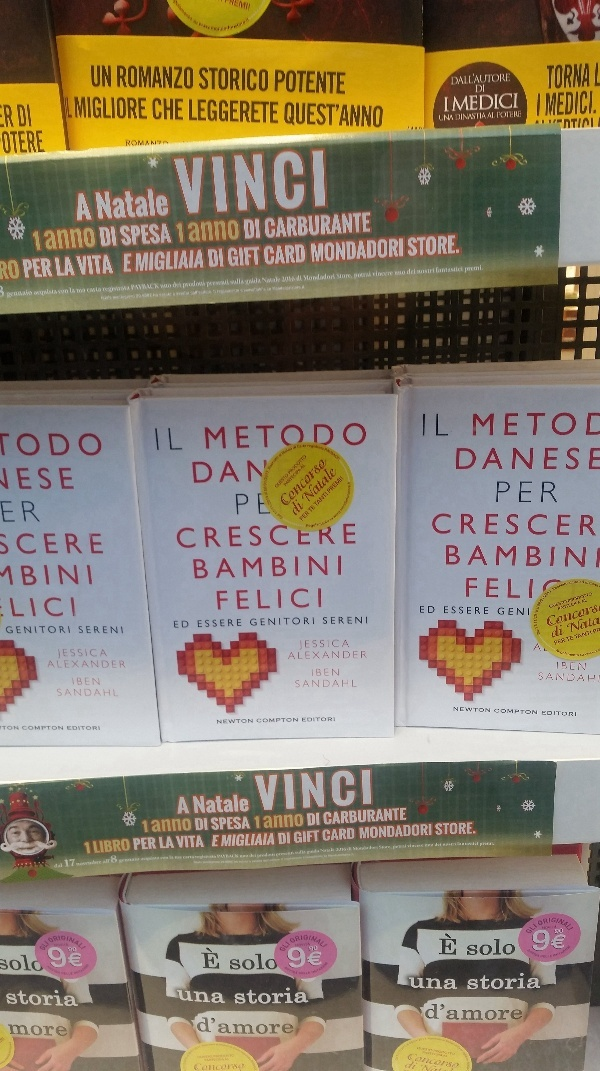text: (177, 149, 192, 214), (193, 149, 208, 214), (209, 149, 224, 214), (225, 149, 240, 214), (241, 149, 256, 214), (257, 149, 272, 214), (273, 149, 288, 214), (289, 149, 304, 214), (305, 149, 320, 214), (529, 578, 544, 635), (289, 459, 304, 510), (305, 459, 320, 510), (401, 1021, 416, 1062), (257, 771, 272, 811), (273, 771, 288, 811), (289, 771, 304, 811), (305, 771, 320, 811), (321, 771, 336, 811), (337, 771, 352, 811), (353, 771, 368, 811), (273, 471, 283, 531), (321, 467, 337, 503), (305, 467, 320, 503), (289, 455, 304, 490), (97, 188, 112, 221), (113, 188, 128, 221), (129, 188, 144, 221), (145, 188, 160, 221), (274, 455, 288, 490), (279, 459, 288, 510), (545, 578, 553, 635), (289, 101, 304, 129), (305, 101, 320, 129), (321, 101, 336, 129), (337, 101, 352, 129), (353, 101, 368, 129), (561, 412, 577, 438), (417, 1021, 427, 1062), (33, 929, 48, 956), (49, 929, 64, 956), (65, 929, 80, 956), (289, 946, 304, 973), (209, 424, 224, 451), (225, 424, 240, 451), (241, 424, 256, 451), (257, 424, 272, 451), (273, 424, 288, 451), (289, 424, 304, 451), (305, 424, 320, 451), (321, 424, 336, 451), (337, 424, 352, 451), (353, 424, 368, 451), (273, 212, 288, 239), (289, 212, 304, 239), (305, 212, 320, 239), (321, 212, 336, 239), (337, 212, 352, 239), (353, 212, 368, 239), (289, 69, 304, 96), (305, 69, 320, 96), (321, 69, 336, 96), (209, 66, 224, 93), (225, 66, 240, 93), (241, 66, 256, 93), (273, 526, 289, 551), (369, 101, 383, 129), (449, 543, 464, 569), (465, 543, 480, 569), (481, 543, 496, 569), (497, 543, 512, 569), (513, 543, 528, 569), (529, 543, 544, 569), (545, 543, 560, 569), (561, 543, 576, 569), (481, 412, 496, 438), (497, 412, 512, 438), (513, 412, 528, 438), (529, 412, 544, 438), (545, 412, 560, 438), (321, 238, 336, 264), (337, 238, 352, 264), (353, 238, 368, 264), (369, 238, 384, 264), (385, 238, 400, 264), (561, 63, 576, 89), (193, 98, 208, 124), (209, 98, 224, 124), (225, 98, 240, 124), (241, 98, 256, 124), (257, 98, 272, 124), (449, 513, 464, 538), (465, 513, 480, 538), (481, 513, 496, 538), (497, 513, 512, 538), (513, 513, 528, 538), (17, 433, 32, 458), (33, 433, 48, 458), (49, 433, 64, 458), (65, 433, 80, 458), (81, 433, 96, 458), (177, 526, 192, 551), (193, 526, 208, 551), (209, 526, 224, 551), (225, 526, 240, 551), (241, 526, 256, 551), (257, 526, 272, 551), (561, 91, 576, 116), (577, 91, 592, 116), (129, 66, 144, 91), (145, 66, 160, 91), (161, 66, 176, 91), (177, 66, 192, 91), (433, 413, 448, 437), (17, 467, 32, 491), (33, 467, 48, 491), (49, 467, 64, 491), (193, 556, 208, 580), (209, 556, 224, 580), (225, 556, 240, 580), (241, 556, 256, 580), (257, 556, 272, 580), (273, 556, 288, 580), (289, 556, 304, 580), (305, 556, 320, 580), (145, 249, 160, 273), (161, 249, 176, 273), (177, 249, 192, 273), (193, 219, 208, 243), (209, 219, 224, 243), (225, 219, 240, 243), (129, 224, 144, 248), (145, 224, 160, 248), (97, 64, 112, 88), (177, 1, 192, 25), (321, 459, 328, 510), (289, 246, 305, 268), (275, 69, 288, 96), (546, 91, 560, 116), (561, 605, 576, 628), (577, 605, 592, 628), (193, 461, 208, 484), (209, 461, 224, 484), (225, 461, 240, 484), (49, 228, 64, 251), (65, 228, 80, 251), (81, 228, 96, 251), (161, 98, 176, 121), (81, 97, 96, 120), (97, 97, 112, 120), (113, 97, 128, 120), (129, 97, 144, 120), (1, 131, 16, 154), (17, 131, 32, 154), (547, 63, 560, 89), (577, 63, 590, 89), (49, 948, 64, 970), (513, 481, 528, 503), (529, 481, 544, 503), (465, 448, 480, 470), (481, 448, 496, 470), (497, 448, 512, 470), (513, 448, 528, 470), (529, 448, 544, 470), (545, 448, 560, 470), (561, 448, 576, 470), (577, 448, 592, 470), (33, 565, 48, 587), (49, 565, 64, 587), (65, 565, 80, 587), (17, 533, 32, 555), (33, 533, 48, 555), (49, 533, 64, 555), (65, 533, 80, 555), (81, 533, 96, 555), (225, 588, 240, 610), (241, 588, 256, 610), (257, 588, 272, 610), (273, 588, 288, 610), (289, 588, 304, 610), (305, 588, 320, 610), (417, 235, 432, 257), (433, 235, 448, 257), (273, 246, 288, 268), (65, 97, 80, 119), (17, 105, 32, 127), (392, 1021, 400, 1062), (321, 149, 326, 214), (257, 66, 269, 93), (546, 605, 560, 628), (273, 932, 288, 953), (289, 932, 304, 953), (305, 932, 320, 953), (321, 932, 336, 953), (481, 578, 496, 599), (497, 578, 512, 599), (513, 578, 528, 599), (1, 501, 16, 522), (17, 501, 32, 522), (161, 429, 176, 450), (241, 246, 256, 267), (81, 255, 96, 276), (97, 255, 112, 276), (33, 230, 48, 251), (498, 481, 512, 503), (81, 193, 92, 221), (241, 1050, 256, 1070), (209, 1017, 224, 1037), (225, 1017, 240, 1037), (241, 1017, 256, 1037), (257, 1017, 272, 1037), (273, 1017, 288, 1037), (436, 513, 448, 538), (17, 597, 32, 617), (33, 597, 48, 617), (49, 597, 64, 617), (177, 223, 192, 243), (33, 259, 48, 279), (1, 260, 16, 280), (465, 1044, 476, 1071), (466, 578, 480, 599), (209, 946, 221, 970), (577, 591, 593, 609), (545, 481, 558, 503), (529, 917, 544, 936), (545, 917, 560, 936), (561, 917, 576, 936), (577, 614, 592, 633), (209, 248, 224, 267), (532, 929, 544, 952), (292, 499, 304, 522), (33, 131, 45, 154), (4, 105, 16, 128), (117, 66, 128, 91), (99, 226, 112, 247), (81, 929, 91, 956), (241, 953, 256, 971), (257, 953, 272, 971), (481, 939, 496, 957), (497, 939, 512, 957), (193, 795, 208, 813), (209, 795, 224, 813), (225, 795, 240, 813), (561, 591, 576, 609), (465, 94, 480, 112), (481, 94, 496, 112), (497, 94, 512, 112), (81, 565, 93, 587), (193, 249, 204, 273), (161, 224, 172, 248), (161, 188, 169, 221), (577, 543, 587, 569), (17, 991, 32, 1008), (33, 991, 48, 1008), (49, 991, 64, 1008), (241, 988, 256, 1005), (257, 988, 272, 1005), (273, 988, 288, 1005), (289, 988, 304, 1005), (433, 1004, 448, 1021), (449, 1004, 464, 1021), (465, 1004, 480, 1021), (481, 1004, 496, 1021), (497, 1004, 512, 1021), (481, 974, 496, 991), (497, 974, 512, 991), (513, 974, 528, 991), (369, 824, 384, 841), (385, 824, 400, 841), (401, 824, 416, 841), (417, 824, 432, 841), (337, 808, 352, 825), (353, 808, 368, 825), (369, 808, 384, 825), (385, 808, 400, 825), (228, 246, 240, 267), (244, 219, 256, 240), (529, 513, 539, 538), (455, 1044, 464, 1071), (337, 69, 346, 96), (21, 565, 32, 587), (449, 235, 460, 257), (417, 1053, 432, 1069), (433, 1053, 448, 1069), (289, 468, 301, 488), (65, 991, 79, 1008), (17, 955, 31, 972), (439, 930, 448, 956), (311, 238, 320, 264), (516, 917, 528, 936), (97, 839, 112, 854), (113, 839, 128, 854), (161, 818, 176, 833), (177, 818, 192, 833), (193, 1043, 201, 1071), (65, 597, 76, 617), (468, 939, 480, 957), (423, 413, 432, 437), (65, 467, 74, 491), (264, 212, 272, 239), (200, 66, 208, 93), (449, 821, 464, 835), (337, 828, 352, 842), (305, 830, 319, 845), (273, 815, 288, 829), (225, 817, 240, 831), (65, 256, 75, 277), (565, 614, 576, 633), (449, 930, 457, 956), (468, 974, 480, 991), (529, 974, 541, 991), (324, 808, 336, 825), (180, 797, 192, 814), (97, 433, 105, 458), (549, 591, 560, 609), (306, 952, 320, 966), (289, 815, 303, 829), (210, 817, 224, 831), (17, 1025, 32, 1038), (33, 1025, 48, 1038), (49, 1025, 64, 1038), (177, 991, 192, 1004), (193, 991, 208, 1004), (209, 991, 224, 1004), (417, 978, 432, 991), (433, 978, 448, 991), (177, 836, 192, 849), (225, 834, 240, 847), (241, 834, 256, 847), (257, 834, 272, 847), (209, 21, 224, 34), (225, 21, 240, 34), (129, 138, 144, 151), (145, 138, 160, 151), (136, 249, 144, 273), (120, 224, 128, 248), (55, 256, 64, 277), (5, 991, 16, 1008), (241, 492, 249, 515), (67, 954, 80, 968), (435, 821, 448, 835), (323, 828, 336, 842), (307, 813, 320, 827), (195, 818, 208, 832), (199, 1017, 208, 1037), (230, 953, 240, 971), (269, 471, 272, 531), (23, 259, 32, 279), (216, 588, 224, 610), (344, 523, 352, 545), (408, 235, 416, 257), (264, 246, 272, 268), (513, 1004, 523, 1021), (186, 1043, 192, 1071), (201, 946, 208, 970), (561, 945, 573, 959), (161, 837, 175, 849), (33, 501, 41, 522), (321, 556, 328, 580), (545, 672, 560, 683), (561, 672, 576, 683), (577, 672, 592, 683), (65, 649, 80, 660), (81, 649, 96, 660), (305, 640, 320, 651), (321, 640, 336, 651), (241, 795, 250, 813), (327, 476, 336, 494), (455, 94, 464, 112), (153, 98, 160, 121), (177, 98, 184, 121), (449, 1053, 459, 1069), (84, 841, 96, 854), (145, 838, 157, 851), (193, 836, 205, 849), (474, 412, 480, 438), (273, 98, 279, 124), (465, 821, 476, 835), (457, 448, 464, 470), (593, 448, 600, 470), (348, 481, 352, 519), (294, 830, 304, 845), (561, 601, 576, 611), (513, 606, 528, 616), (311, 962, 320, 978), (321, 962, 330, 978), (300, 467, 304, 503), (327, 447, 336, 463), (17, 290, 33, 299), (133, 838, 144, 851), (530, 949, 544, 959), (241, 817, 251, 831), (498, 606, 512, 616), (9, 597, 16, 617), (545, 929, 551, 952), (538, 94, 544, 117), (74, 97, 80, 120), (360, 824, 368, 841), (8, 955, 16, 972), (27, 929, 32, 956), (151, 818, 160, 833), (561, 662, 576, 671), (577, 631, 592, 640), (65, 688, 80, 697), (81, 688, 96, 697), (97, 688, 112, 697), (65, 659, 80, 668), (81, 659, 96, 668), (97, 659, 112, 668), (81, 625, 96, 634), (97, 625, 112, 634), (305, 679, 320, 688), (321, 679, 336, 688), (337, 679, 352, 688), (305, 651, 320, 660), (321, 651, 336, 660), (337, 651, 352, 660), (257, 617, 272, 626), (273, 617, 288, 626), (289, 617, 304, 626), (465, 265, 480, 274), (209, 278, 224, 287), (497, 110, 512, 119), (465, 112, 480, 121), (481, 112, 496, 121), (593, 614, 600, 633), (213, 835, 224, 847), (97, 533, 103, 555), (337, 640, 349, 651), (174, 149, 176, 214), (552, 935, 560, 951), (263, 815, 272, 829), (50, 659, 64, 668), (353, 651, 367, 660), (177, 429, 183, 450), (337, 476, 344, 494), (194, 18, 208, 27), (257, 1050, 263, 1070), (449, 607, 464, 615), (465, 607, 480, 615), (497, 708, 512, 716), (513, 708, 528, 716), (17, 626, 32, 634), (33, 626, 48, 634), (49, 626, 64, 634), (321, 669, 336, 677), (209, 619, 224, 627), (225, 619, 240, 627), (321, 491, 329, 506), (305, 274, 320, 282), (321, 274, 336, 282), (145, 283, 160, 291), (91, 64, 96, 88), (449, 978, 458, 991), (113, 659, 126, 668), (291, 651, 304, 660), (193, 280, 206, 289), (199, 21, 208, 34), (593, 605, 598, 628), (433, 1051, 447, 1059), (306, 520, 320, 528), (49, 965, 60, 975), (278, 833, 288, 844), (97, 649, 107, 660), (241, 1, 251, 12), (273, 953, 279, 971), (204, 424, 208, 451), (209, 1063, 224, 1070), (225, 1063, 240, 1070), (465, 706, 480, 713), (81, 678, 96, 685), (337, 617, 352, 624), (353, 617, 368, 624), (155, 429, 160, 450), (313, 491, 320, 506), (113, 286, 128, 293), (8, 1025, 16, 1038), (307, 505, 320, 513), (355, 271, 368, 279), (131, 283, 144, 291), (161, 138, 169, 151), (234, 988, 240, 1005), (273, 455, 279, 472), (289, 1017, 294, 1037), (283, 468, 288, 488), (593, 91, 597, 116), (81, 964, 90, 975), (289, 967, 298, 978), (418, 1046, 432, 1053), (434, 1049, 448, 1056), (553, 945, 560, 959), (449, 266, 463, 273), (418, 268, 432, 275), (561, 710, 577, 716), (420, 606, 432, 614), (177, 621, 189, 629), (308, 444, 320, 452), (188, 219, 192, 243), (236, 492, 240, 515), (44, 228, 48, 251), (409, 978, 416, 991), (323, 617, 336, 624), (54, 861, 64, 870), (65, 860, 75, 869), (209, 1053, 224, 1059), (257, 853, 272, 859), (145, 857, 160, 863), (81, 860, 96, 866), (545, 710, 560, 716), (113, 625, 123, 634), (273, 286, 288, 292), (225, 289, 240, 295), (513, 94, 518, 112), (305, 988, 310, 1005), (401, 808, 406, 825), (267, 455, 272, 472), (196, 1063, 208, 1070), (529, 578, 533, 599), (34, 290, 48, 296), (113, 226, 117, 247), (285, 101, 288, 129), (577, 662, 586, 671), (295, 679, 304, 688), (305, 617, 314, 626), (183, 280, 192, 289), (7, 290, 16, 299), (561, 935, 566, 951), (254, 771, 256, 811), (369, 771, 371, 811), (6, 626, 16, 634), (198, 619, 208, 627), (246, 278, 256, 286), (124, 253, 128, 273), (49, 259, 53, 279), (17, 260, 21, 280), (435, 841, 448, 847), (289, 856, 302, 862), (289, 286, 302, 292), (177, 291, 190, 297), (189, 98, 192, 124), (73, 964, 80, 975), (309, 944, 320, 951), (129, 857, 140, 864), (437, 266, 448, 273), (353, 846, 368, 851), (337, 847, 352, 852), (305, 717, 320, 722), (257, 718, 272, 723), (273, 718, 288, 723), (225, 719, 240, 724), (33, 726, 48, 731), (49, 726, 64, 731), (337, 274, 352, 279), (193, 291, 208, 296), (113, 295, 128, 300), (423, 1051, 432, 1059), (276, 852, 288, 858), (552, 582, 560, 591), (529, 708, 538, 716), (321, 520, 330, 528), (292, 446, 304, 452), (244, 287, 256, 293), (231, 277, 240, 285), (513, 110, 521, 119), (456, 112, 464, 121), (555, 625, 560, 639), (561, 625, 566, 639), (454, 706, 464, 713), (481, 706, 491, 713), (321, 717, 335, 722), (2, 726, 16, 731), (305, 455, 307, 490), (161, 283, 171, 290), (538, 672, 544, 683), (353, 523, 356, 545), (161, 292, 172, 298), (481, 843, 494, 848), (465, 842, 478, 847), (299, 510, 304, 523), (305, 510, 310, 523), (241, 21, 246, 34), (481, 607, 489, 615), (312, 669, 320, 677), (337, 447, 341, 463), (119, 857, 128, 864), (561, 582, 568, 591), (57, 688, 64, 697), (281, 446, 288, 455), (407, 269, 416, 276), (103, 286, 112, 293), (257, 246, 260, 267), (257, 219, 260, 240), (77, 255, 80, 276), (209, 1058, 224, 1062), (198, 1053, 208, 1059), (225, 1053, 235, 1059), (241, 719, 253, 724), (81, 726, 96, 730), (278, 453, 288, 459), (241, 289, 256, 293), (70, 288, 80, 294), (129, 253, 132, 273), (246, 17, 256, 23), (577, 917, 580, 936), (306, 856, 320, 860), (296, 275, 304, 282), (440, 114, 448, 121), (545, 926, 556, 931), (59, 649, 64, 660), (373, 271, 384, 276), (213, 289, 224, 294), (295, 943, 304, 949), (513, 939, 516, 957), (103, 859, 112, 865), (250, 617, 256, 626), (257, 287, 266, 293), (263, 277, 272, 283), (87, 288, 96, 294), (145, 821, 149, 834), (67, 726, 80, 730), (401, 238, 403, 264), (429, 1004, 432, 1021), (566, 637, 576, 642), (582, 599, 592, 604), (73, 678, 80, 685), (68, 947, 80, 951), (216, 1043, 224, 1049), (413, 1053, 416, 1069), (196, 856, 208, 860), (65, 626, 71, 634), (282, 275, 288, 283), (289, 275, 295, 283), (273, 277, 281, 283), (49, 290, 57, 296), (445, 96, 448, 112), (145, 97, 147, 120), (433, 1037, 442, 1042), (369, 846, 378, 851), (321, 849, 336, 852), (225, 854, 234, 859), (161, 857, 176, 860), (113, 855, 118, 864), (93, 839, 96, 854), (289, 718, 298, 723), (23, 726, 32, 731), (113, 688, 118, 697), (225, 278, 230, 287), (46, 948, 48, 970), (65, 948, 67, 970), (209, 861, 220, 865), (14, 533, 16, 555), (101, 296, 112, 300), (81, 954, 84, 968), (209, 1043, 216, 1049), (449, 1049, 455, 1056), (337, 854, 351, 857), (538, 644, 544, 651), (593, 628, 600, 634), (554, 638, 560, 645), (593, 581, 599, 588), (297, 444, 304, 450), (217, 289, 224, 295), (145, 293, 152, 299), (54, 943, 64, 947), (230, 1046, 240, 1050), (408, 845, 416, 850), (296, 850, 304, 855), (577, 601, 581, 611), (385, 271, 393, 276), (136, 294, 144, 299), (65, 1025, 68, 1038), (307, 851, 320, 854), (202, 1043, 208, 1049), (305, 971, 311, 977), (324, 855, 336, 858), (183, 856, 192, 860), (257, 817, 260, 829), (353, 679, 357, 688), (330, 516, 336, 522), (58, 289, 64, 295), (476, 84, 480, 93), (481, 84, 485, 93), (233, 1048, 240, 1053), (449, 1039, 454, 1046), (545, 955, 552, 960), (457, 842, 464, 847), (417, 845, 424, 850), (249, 854, 256, 859), (217, 854, 224, 859), (561, 638, 566, 645), (217, 719, 224, 724), (153, 293, 160, 298), (449, 114, 454, 121), (301, 640, 304, 651), (264, 859, 272, 863), (273, 859, 281, 863), (241, 855, 249, 859), (444, 607, 448, 615), (257, 278, 261, 286), (299, 971, 304, 977), (305, 943, 310, 949), (413, 1061, 416, 1071), (555, 928, 560, 934), (394, 846, 400, 851), (289, 852, 294, 858), (97, 860, 102, 866), (129, 295, 135, 300), (97, 288, 102, 294), (241, 1063, 245, 1070), (353, 828, 355, 842), (194, 862, 208, 864), (209, 856, 216, 860), (569, 581, 576, 585), (577, 580, 584, 584), (79, 193, 80, 221), (287, 946, 288, 973), (305, 946, 306, 973), (557, 662, 560, 671), (289, 446, 292, 455), (369, 212, 370, 239), (273, 834, 275, 847), (142, 821, 144, 834), (447, 543, 448, 569), (126, 138, 128, 151), (401, 846, 406, 851), (15, 433, 16, 458), (175, 526, 176, 551), (395, 271, 400, 276), (401, 271, 406, 276), (81, 288, 86, 293), (193, 66, 194, 91), (65, 973, 73, 976), (225, 1043, 229, 1049), (442, 1039, 448, 1043), (385, 846, 391, 850), (328, 854, 336, 857), (241, 861, 249, 864), (234, 860, 240, 864), (225, 861, 233, 864), (170, 856, 176, 860), (254, 817, 256, 829), (301, 463, 304, 471), (321, 444, 324, 452), (241, 277, 244, 285), (177, 282, 181, 288), (65, 289, 69, 295), (289, 833, 291, 844), (593, 672, 595, 683), (321, 588, 322, 610), (271, 932, 272, 953), (449, 843, 456, 846), (425, 844, 432, 847), (281, 858, 288, 861), (97, 678, 100, 685), (113, 255, 114, 276), (417, 1061, 419, 1071), (428, 1037, 432, 1042), (540, 955, 544, 960), (203, 861, 208, 865), (235, 854, 240, 858), (177, 856, 182, 860), (558, 601, 560, 611), (587, 581, 592, 585), (267, 287, 272, 291), (209, 291, 213, 296), (285, 856, 288, 862), (257, 860, 263, 863), (250, 860, 256, 863), (141, 857, 144, 863), (77, 860, 80, 866), (574, 631, 576, 640), (78, 625, 80, 634), (481, 265, 483, 274), (65, 943, 69, 947), (225, 1058, 229, 1062), (380, 846, 384, 850), (572, 580, 576, 584), (433, 606, 435, 614), (97, 726, 101, 730), (337, 669, 339, 677), (174, 621, 176, 629), (369, 271, 371, 279), (443, 843, 448, 846), (129, 839, 130, 854), (77, 288, 80, 293), (321, 952, 322, 966), (590, 581, 592, 588), (225, 991, 226, 1004), (223, 834, 224, 847), (205, 1058, 208, 1062), (561, 928, 563, 934), (273, 853, 275, 859), (159, 837, 160, 849), (542, 710, 544, 716), (305, 444, 307, 450), (173, 293, 176, 297), (142, 293, 144, 299), (174, 282, 176, 288), (287, 967, 288, 978), (542, 926, 544, 931), (529, 606, 530, 616), (302, 717, 304, 722), (17, 726, 19, 731), (302, 285, 304, 290), (253, 860, 256, 863), (221, 861, 224, 864), (111, 855, 112, 864), (207, 278, 208, 287), (321, 856, 323, 860), (495, 708, 496, 716), (241, 619, 242, 627), (305, 463, 306, 471), (447, 1039, 448, 1046), (433, 268, 434, 275), (129, 286, 130, 293), (62, 973, 64, 976), (353, 854, 355, 857), (305, 850, 306, 855), (305, 285, 306, 290), (191, 291, 192, 296), (193, 856, 194, 860), (175, 856, 176, 860), (433, 844, 434, 847), (351, 854, 352, 857), (303, 857, 304, 860), (239, 861, 240, 864)
